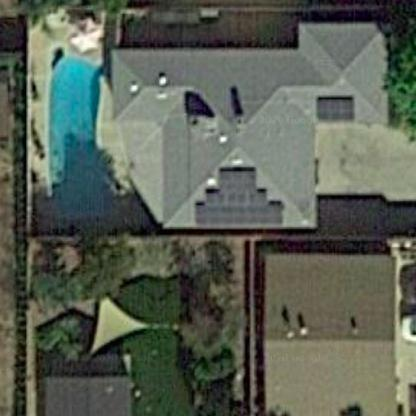solar_panel: (189, 159, 292, 230), (303, 84, 363, 125)
swimming_pool: (32, 33, 136, 233)
